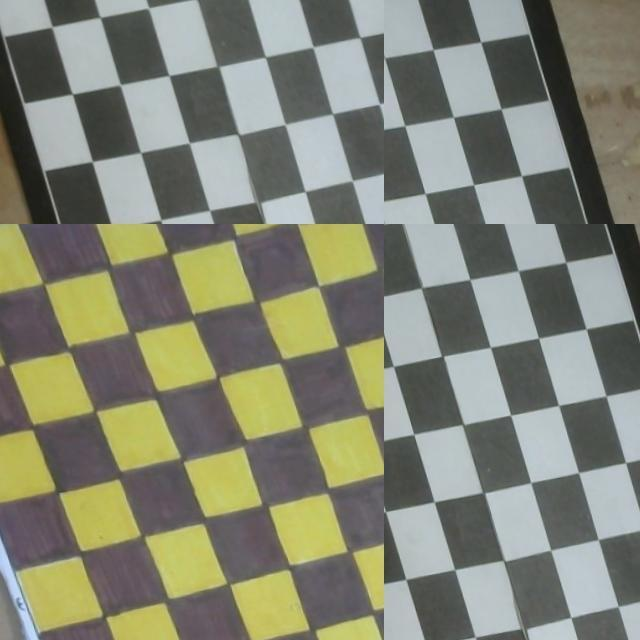chess-table-corners: (569, 224, 579, 230), (384, 224, 389, 230), (304, 0, 313, 2), (384, 33, 387, 39), (0, 0, 4, 4), (505, 0, 510, 3), (0, 244, 1, 252)
